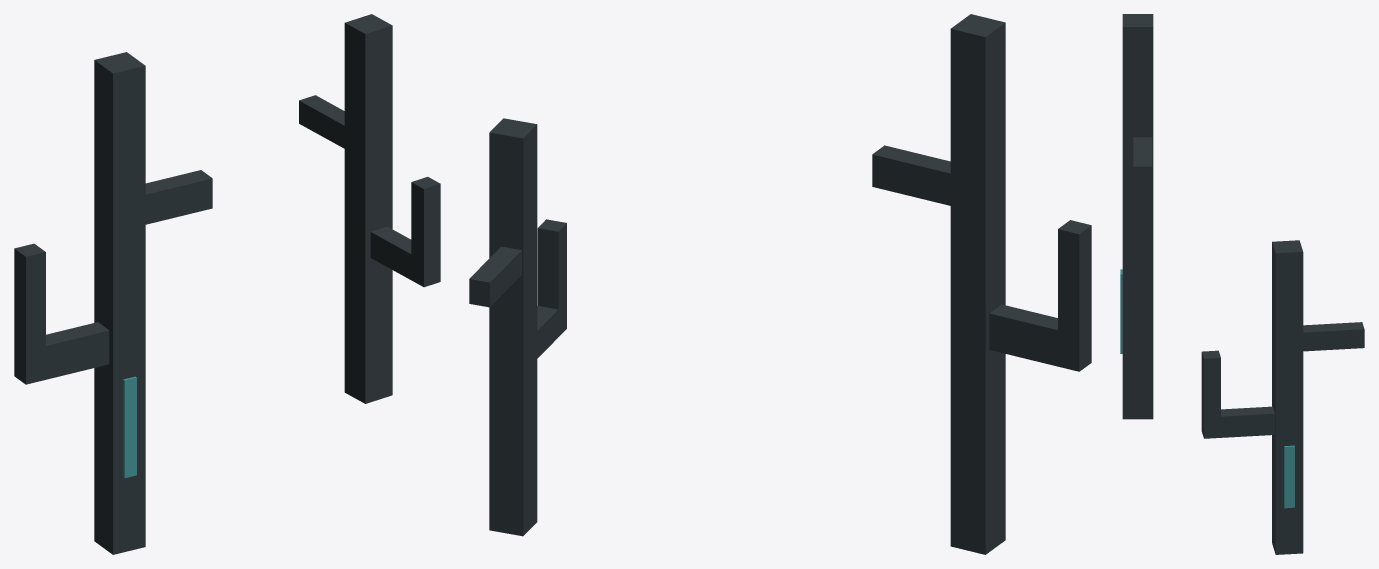
The model's file is CharredTreePair.fbx.
3 renders of one model, left to right at view 1: azimuth 30°, elevation 25°; view 2: azimuth 150°, elevation 25°; view 3: azimuth 270°, elevation 25°, orthographic. The views are drawn at different scales.
Visible parts, largest first — view 1: CharredTreePair; view 2: CharredTreePair; view 3: CharredTreePair.
Boxes of the visible parts, box(x1,y1,x2,y2) form: CharredTreePair: box(14, 14, 440, 554); CharredTreePair: box(469, 14, 1091, 554); CharredTreePair: box(1120, 14, 1364, 554).
Size of the model in its own units: 60.94 by 60.8 by 34.26.
